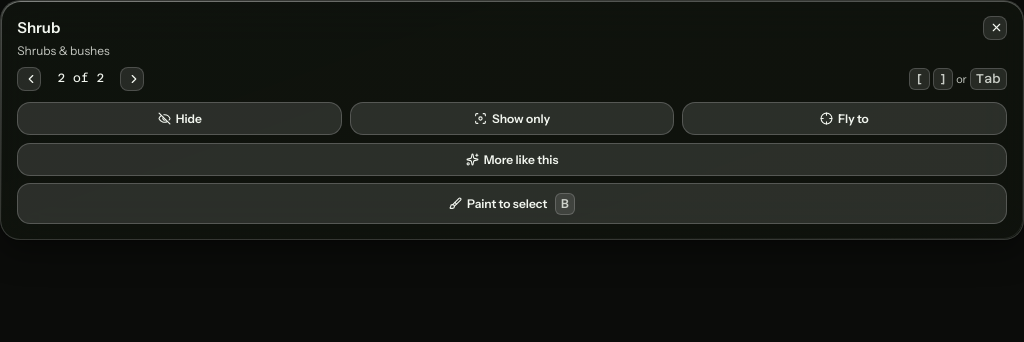
Test case: More like this › lights what looks alike, moves it with How alike, and always says it is inferred
This screenshot has width=1024, height=342.
Click the button "More like this" at {"x": 512, "y": 159}, box [17,143,1007,176]
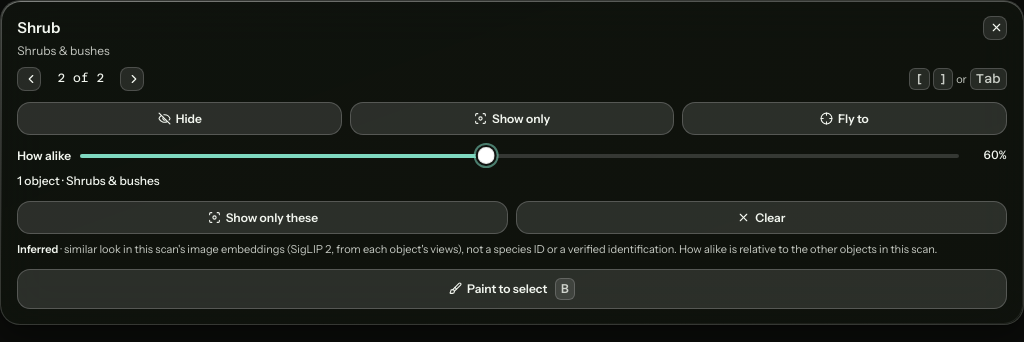
Expected: the text with test id "more-like-this-threshold" reads "60%", [983,148,1007,162]
Expected: the message with test id "more-like-this-count" reads "1 object · Shrubs & bushes", [17,173,160,188]
Expected: the element with test id "more-like-this-inferred" shows "Inferred", [17,242,58,256]
Press Home
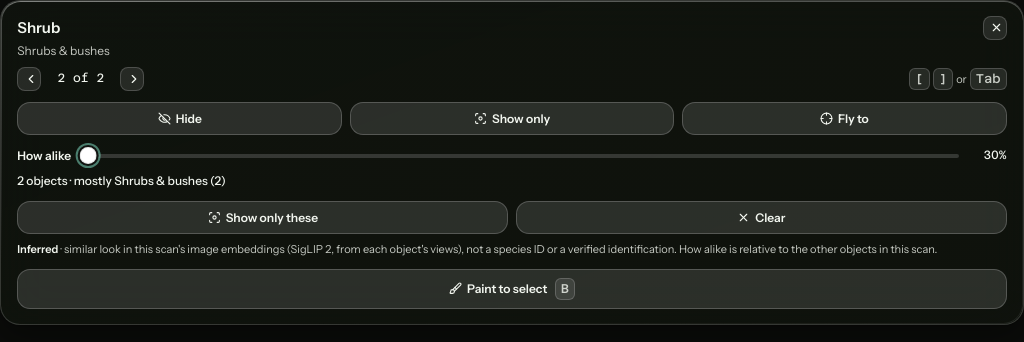
Expected: the element with test id "more-like-this-inferred" shows "Inferred", [17,242,58,256]
Expected: the text with test id "more-like-this-threshold" reads "30%", [983,148,1007,162]
Expected: the message with test id "more-like-this-count" reads "2 objects · mostly Shrubs & bushes (2)", [17,173,226,188]
Press End
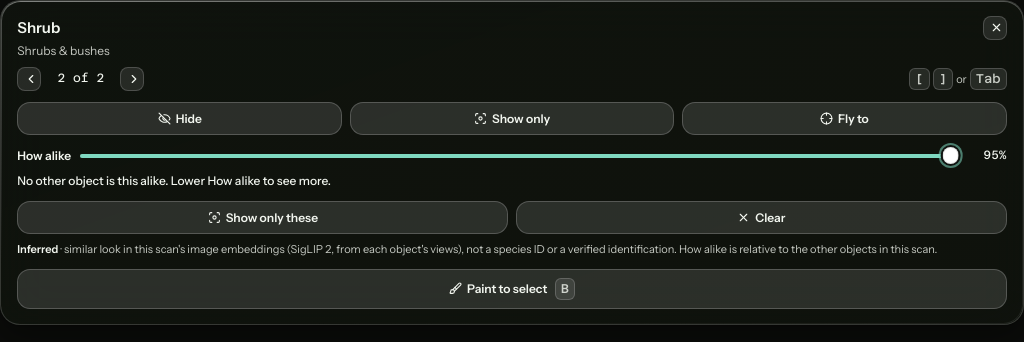
Expected: the element with test id "more-like-this-inferred" shows "Inferred", [17,242,58,256]
Expected: the text with test id "more-like-this-threshold" reads "95%", [983,148,1007,162]
Expected: the message with test id "more-like-this-count" shows "No other object is this alike", [17,173,331,188]
